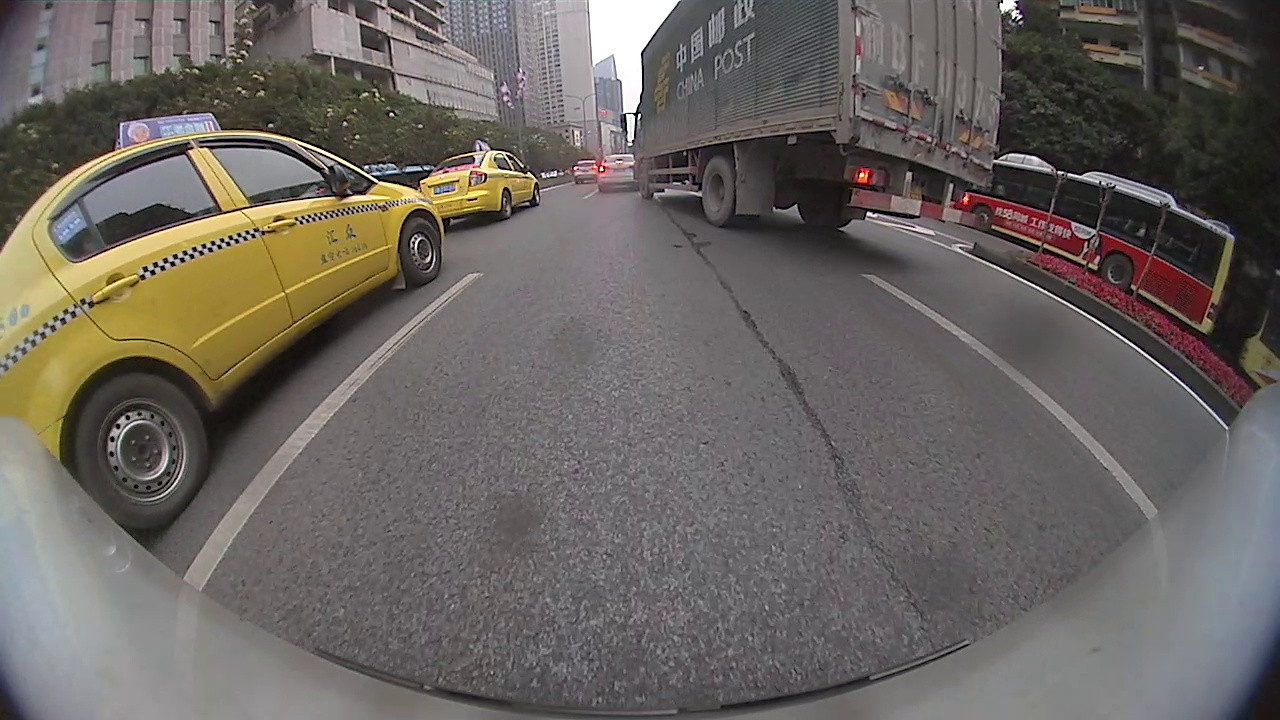bus: (960, 149, 1235, 335), (1236, 261, 1278, 388)
car: (1, 112, 445, 531), (418, 142, 541, 223), (596, 154, 634, 193), (571, 159, 598, 184)
front: (398, 217, 444, 287), (638, 167, 655, 198), (973, 204, 993, 230), (530, 183, 543, 207)
rear: (72, 371, 213, 528), (702, 154, 737, 225), (1100, 252, 1133, 291), (499, 187, 513, 220)
truck: (634, 1, 1004, 228)
